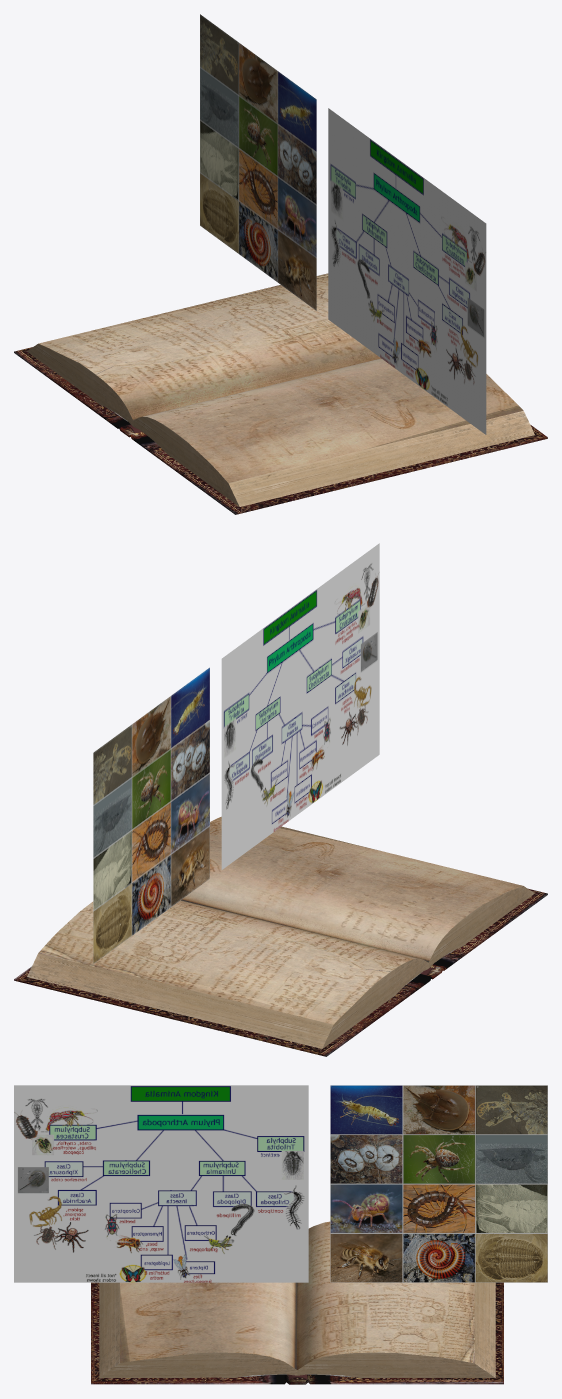
File: arthropod.glb
The picture shows the model from 3 angles, top to bottom: view 1: azimuth 30°, elevation 25°; view 2: azimuth 150°, elevation 25°; view 3: azimuth 270°, elevation 25°; orthographic projection. The views are drawn at different scales.
Parts seen in each view (by area): view 1: polySurface23, arthropod_structure, athropod, polySurface21; view 2: polySurface23, arthropod_structure, athropod, polySurface21; view 3: arthropod_structure, athropod, polySurface23, polySurface21.
Boxes of the visible parts, bbox=[...] form: polySurface23: bbox=[27, 273, 534, 506]; arthropod_structure: bbox=[328, 108, 486, 434]; athropod: bbox=[200, 14, 316, 310]; polySurface21: bbox=[14, 347, 547, 514]; polySurface23: bbox=[27, 816, 534, 1048]; arthropod_structure: bbox=[221, 543, 379, 869]; athropod: bbox=[93, 667, 209, 963]; polySurface21: bbox=[14, 888, 547, 1056]; arthropod_structure: bbox=[14, 1085, 308, 1282]; athropod: bbox=[330, 1085, 547, 1282]; polySurface23: bbox=[99, 1221, 495, 1378]; polySurface21: bbox=[91, 1282, 503, 1384].
Size of the model in its own units: 2.49 by 2.06 by 3.95.
7 materials, 5 textured.
